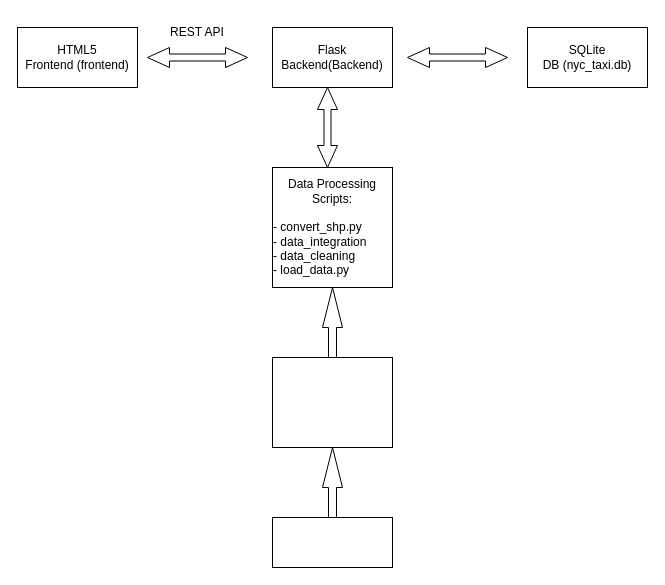
Some shapes in this 665 by 585 pixel diagram are drawn without their labels. The shapes that lost their labels are listed below. From the top down, each one's centre as x and y in pixels, then its label:
At (332,402): "Input Files: - tripdata.csv - zone_lookup.csv - taxi_zones.shp".
At (332,542): "Log File (cleaning_log.txt)".
